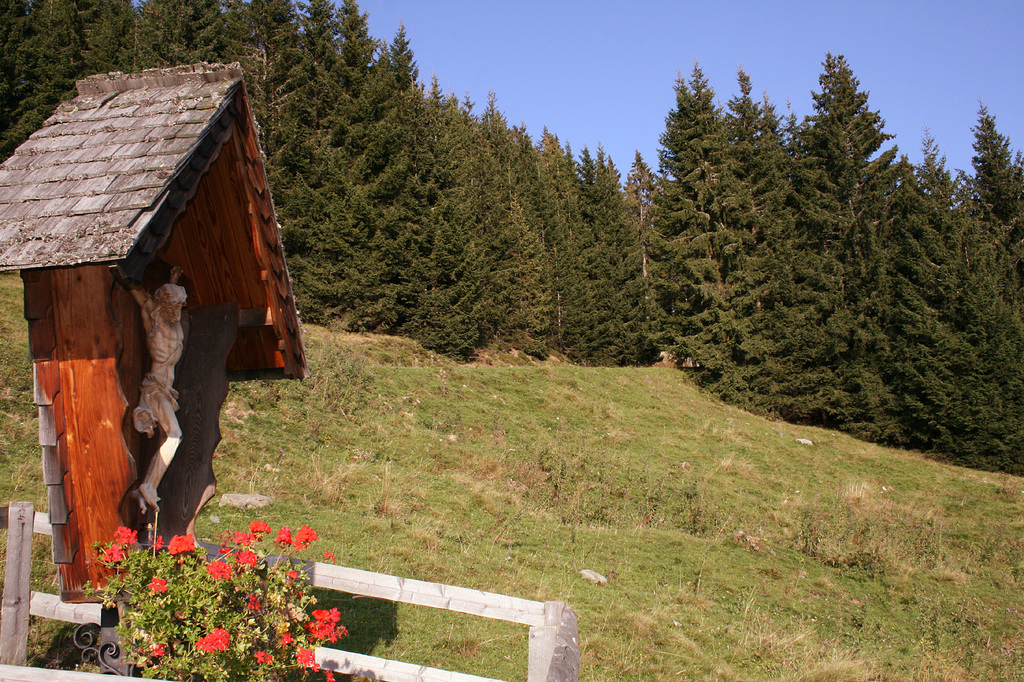Tree: (0, 0, 648, 362), (776, 56, 1023, 456), (639, 71, 816, 431)
